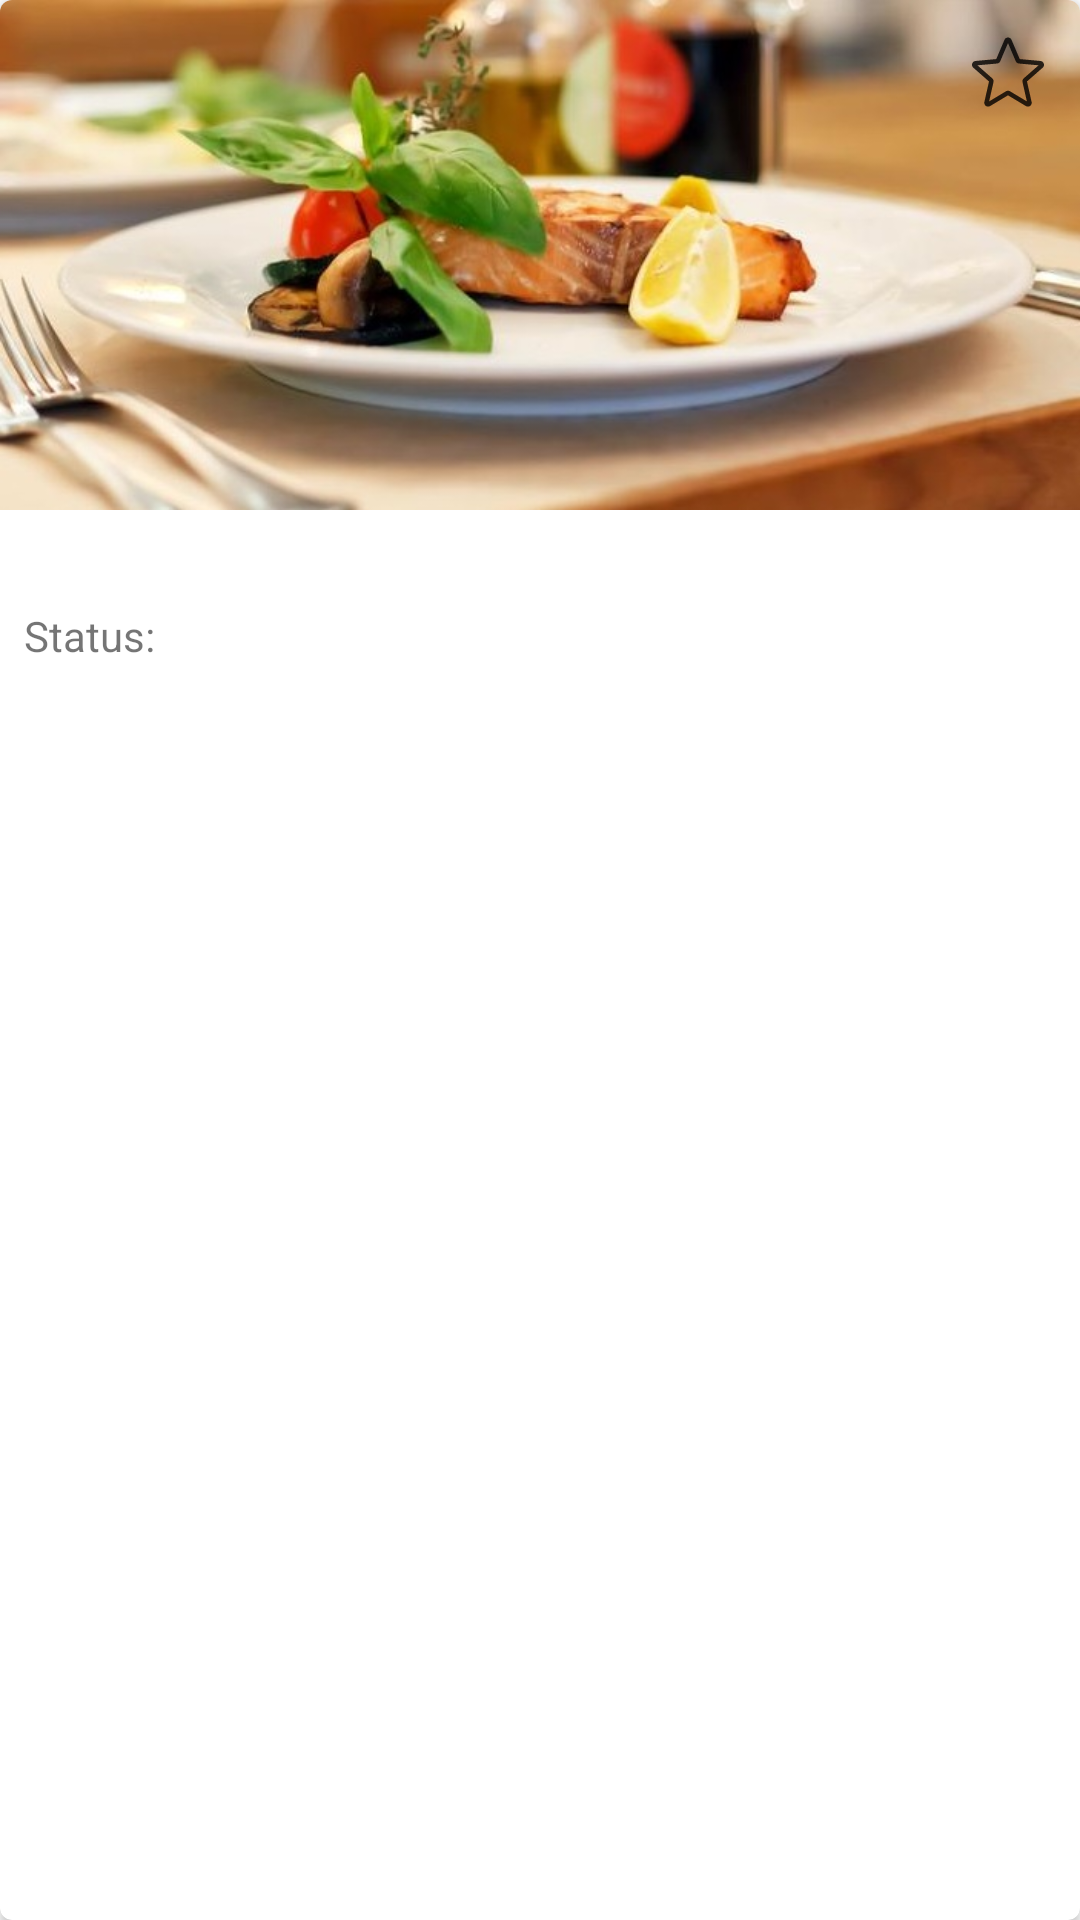

Icon click points for this 1080 x 1920 phone screenshot, format point (x, y):
favorite: point (1008, 72)
